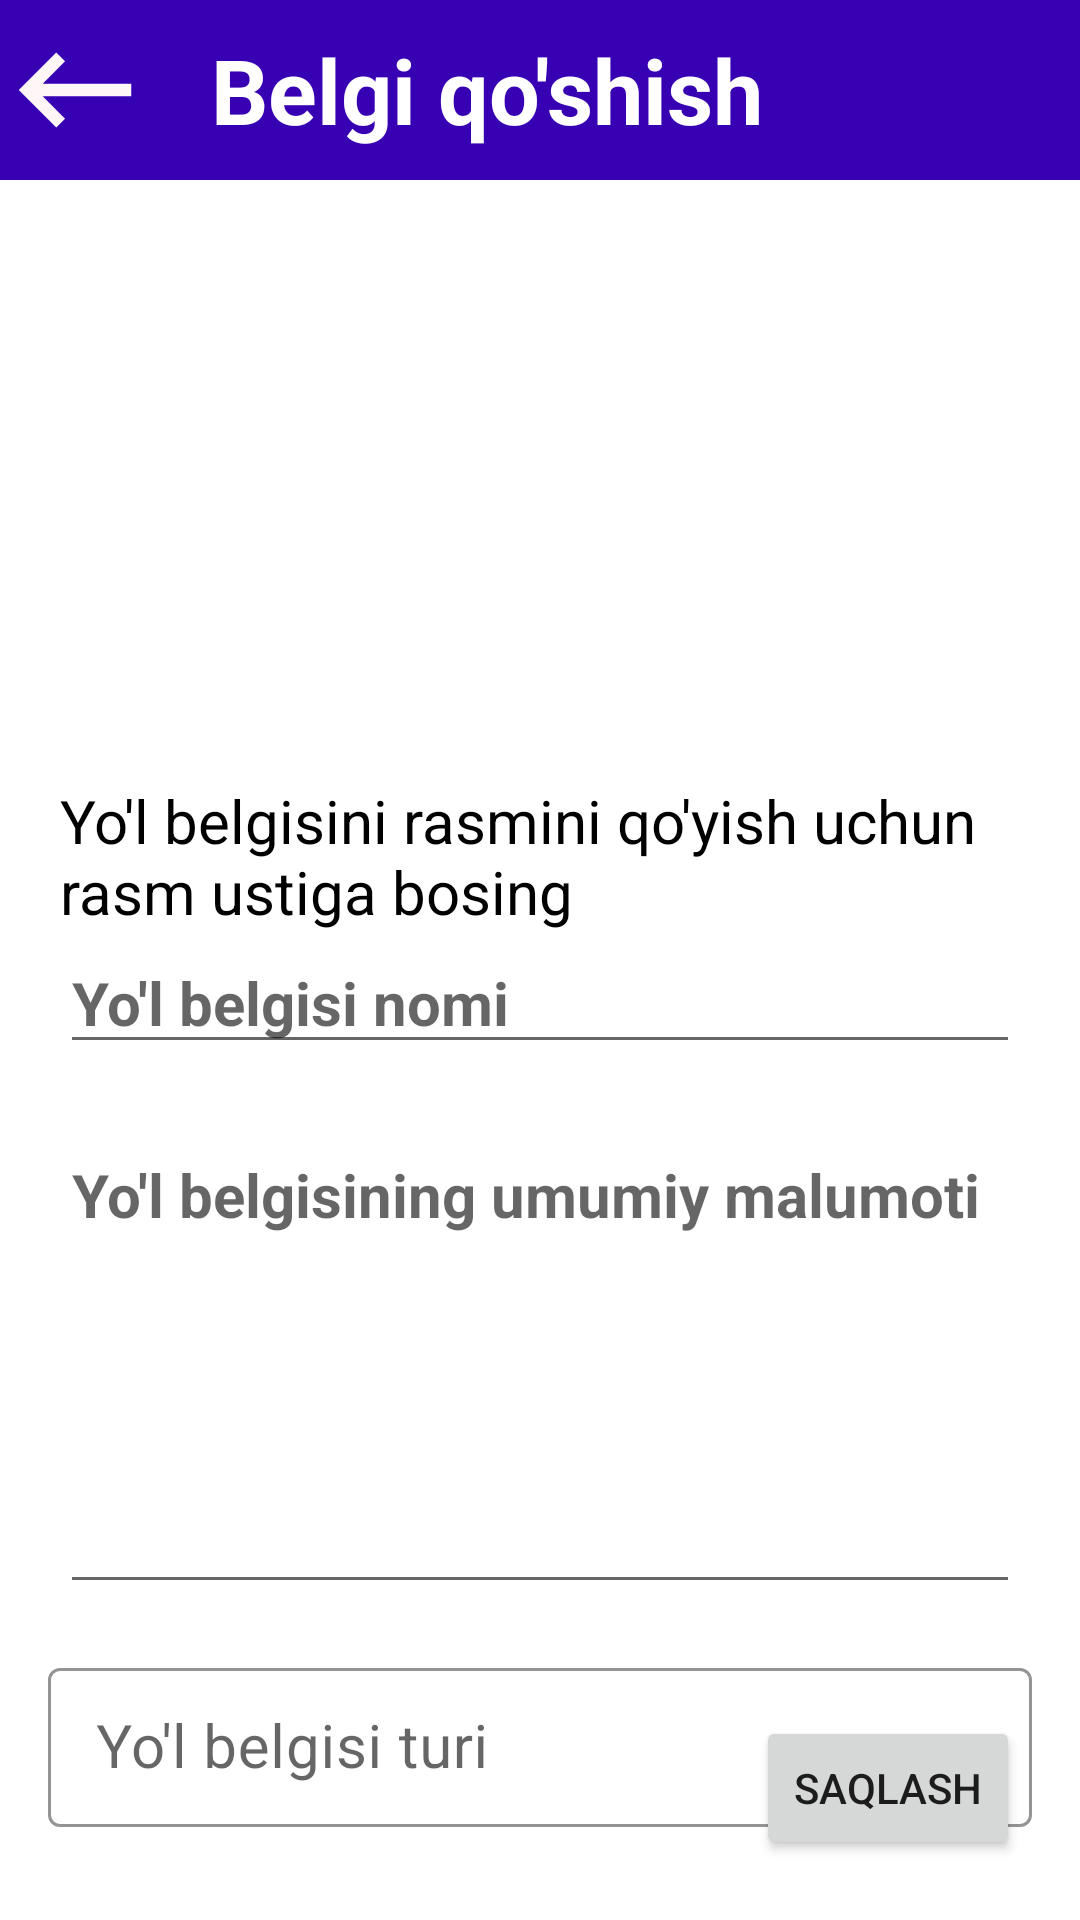

Icons on this 1080px x 1920px Android screen, each with the point to tap as point (x, y):
keyboard backspace: point (75, 90)
